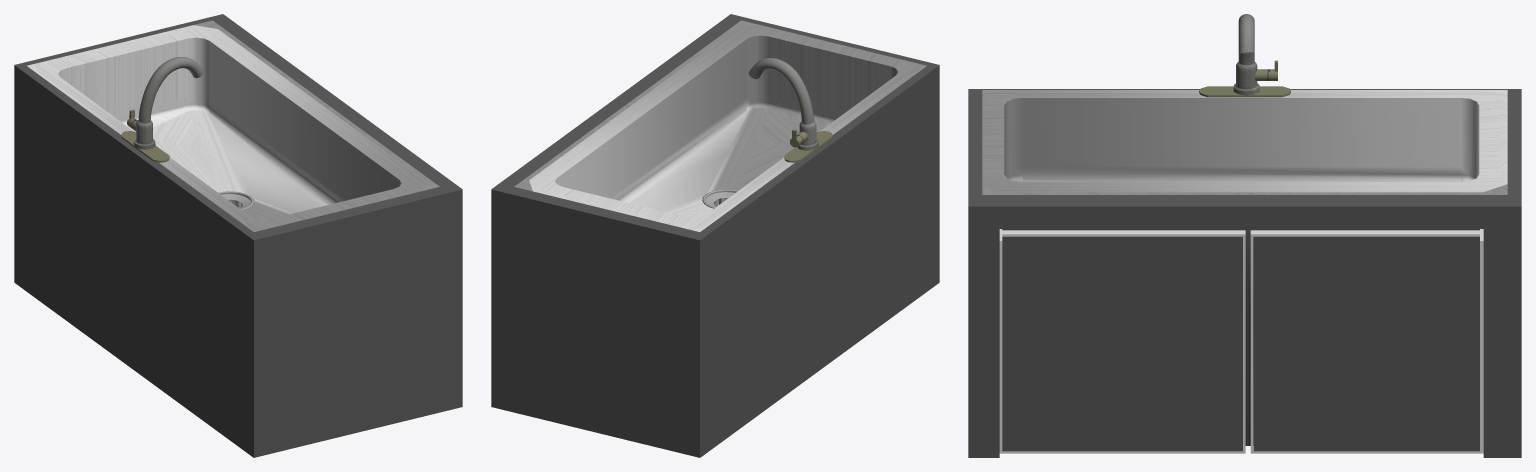
Rendered from Sink.fbx.
The picture shows the model from 3 angles, left to right: view 1: azimuth 30°, elevation 25°; view 2: azimuth 150°, elevation 25°; view 3: azimuth 270°, elevation 25°; orthographic projection. The views are drawn at different scales.
Parts seen in each view (by area): view 1: polySurface48; view 2: polySurface48; view 3: polySurface48.
Boxes of the visible parts, bbox=[...] form: polySurface48: bbox=[14, 14, 462, 457]; polySurface48: bbox=[491, 14, 939, 457]; polySurface48: bbox=[968, 14, 1521, 457].
Size of the model in its own units: 10.68 by 14.8 by 21.22.
15 materials, 3 textured.
